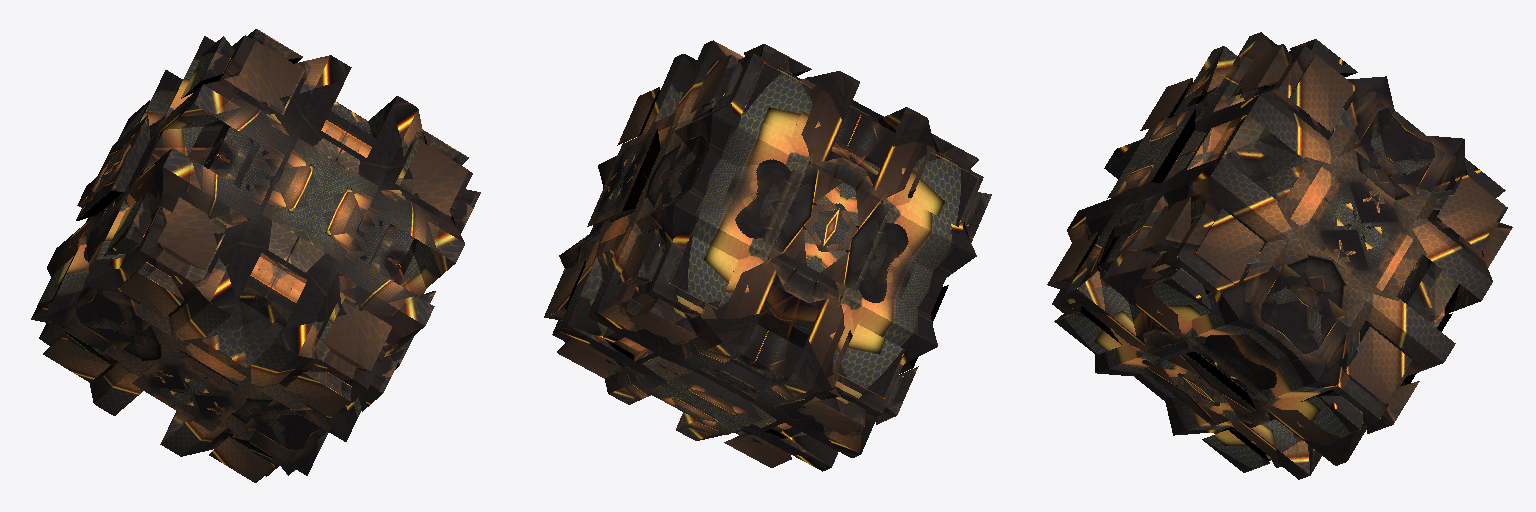
3 views of the same model, side by side, from view 1: azimuth 30°, elevation 25°; view 2: azimuth 150°, elevation 25°; view 3: azimuth 270°, elevation 25° (orthographic).
Parts seen in each view (by area): view 1: Cube.001_Cube.002; view 2: Cube.001_Cube.002; view 3: Cube.001_Cube.002.
Part boxes in pixels (bbox=[...]): Cube.001_Cube.002: bbox=[31, 29, 480, 482]; Cube.001_Cube.002: bbox=[544, 40, 991, 471]; Cube.001_Cube.002: bbox=[1047, 32, 1512, 479].
Bounding box in the file's own units: 1.83 × 1.96 × 1.94.
1 materials, 1 textured.